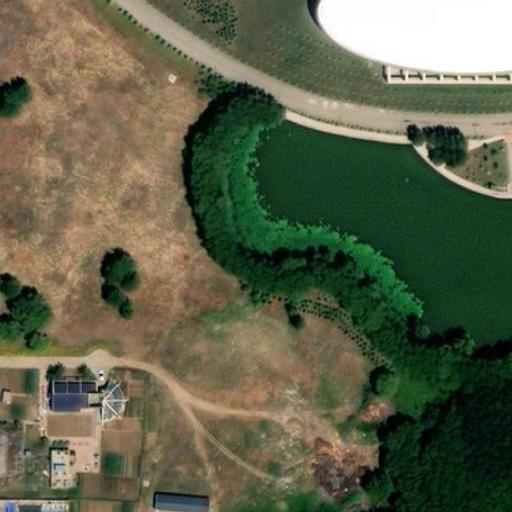building: (150, 489, 210, 512), (58, 399, 100, 428), (2, 495, 69, 512), (46, 443, 69, 484), (0, 385, 14, 402)
